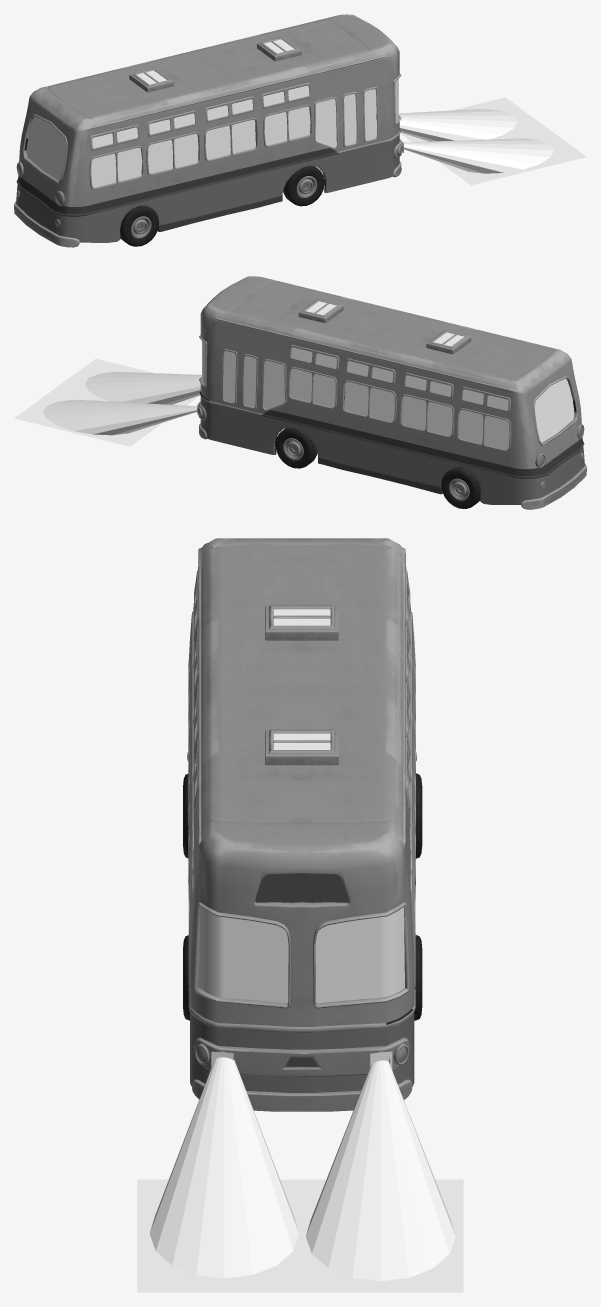
Rendered from CUTSCENE_Bus.fbx.
3 renders of one model, top to bottom at view 1: azimuth 30°, elevation 25°; view 2: azimuth 150°, elevation 25°; view 3: azimuth 270°, elevation 25°, orthographic. The views are drawn at different scales.
Parts seen in each view (by area): view 1: Bus, Cone, Cone (1), busParts20, Quad (1), glass10, glass7, glass6, Quad, glass3, glass1, wheelTire (+19 smaller); view 2: Bus, Cone (1), Cone, Quad, busParts20, glass7 1, glass10 1, glass6 1, glass3 1, glass1 1, Quad (1), wheelTire3 (+20 smaller); view 3: Bus, Cone, Cone (1), Quad, busParts35, busParts50, Quad (1), busParts12, busParts13, busParts19, busParts16, busParts53.
Part boxes in pixels (x1,y1,x2,y2): Bus: [16, 14, 401, 242]; Cone: [403, 138, 553, 173]; Cone (1): [398, 109, 517, 141]; busParts20: [26, 116, 65, 180]; Quad (1): [439, 130, 586, 185]; glass10: [91, 148, 142, 187]; glass7: [148, 134, 198, 173]; glass6: [205, 120, 255, 159]; Quad: [400, 97, 549, 142]; glass3: [264, 106, 310, 145]; glass1: [344, 89, 376, 145]; wheelTire: [120, 206, 158, 246]; Bus: [199, 276, 584, 504]; Cone (1): [43, 399, 196, 435]; Cone: [85, 372, 201, 404]; Quad: [14, 386, 162, 446]; busParts20: [534, 378, 574, 442]; glass7 1: [402, 396, 452, 435]; glass10 1: [458, 410, 509, 449]; glass6 1: [344, 382, 394, 421]; glass3 1: [290, 368, 335, 407]; glass1 1: [223, 351, 256, 407]; Quad (1): [59, 359, 199, 405]; wheelTire3: [441, 468, 480, 508]; Bus: [188, 538, 415, 1092]; Cone: [149, 1057, 299, 1278]; Cone (1): [305, 1060, 455, 1281]; Quad: [285, 1179, 463, 1292]; busParts35: [199, 907, 288, 1003]; busParts50: [315, 907, 404, 1003]; Quad (1): [137, 1179, 285, 1292]; busParts12: [194, 1037, 409, 1077]; busParts13: [191, 1079, 412, 1111]; busParts19: [255, 874, 348, 902]; busParts16: [265, 605, 338, 640]; busParts53: [265, 729, 338, 765].
Bounding box in the file's own units: 4647 × 1279 × 1280.
